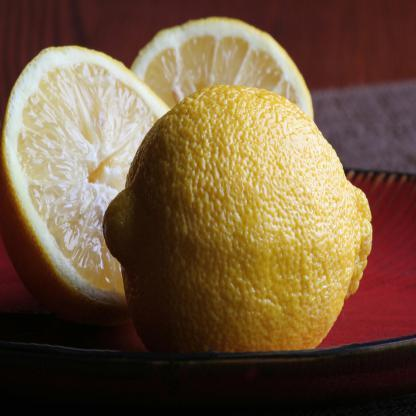lemon: (102, 84, 374, 354), (3, 43, 173, 312), (131, 15, 314, 123)
